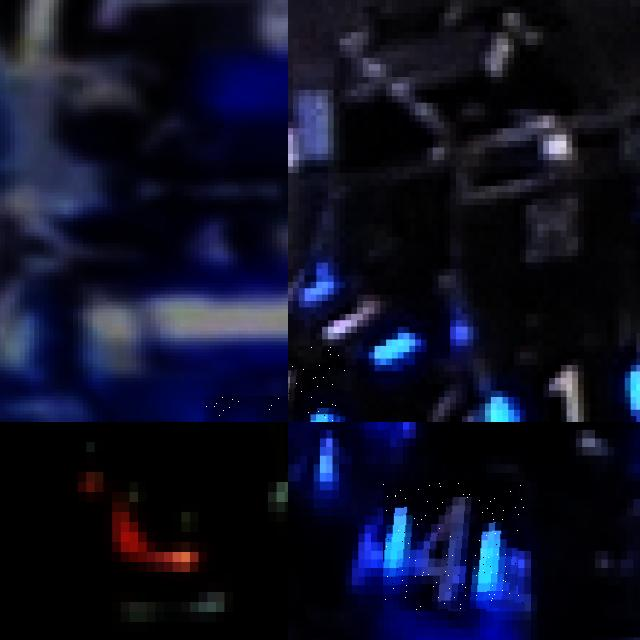B1: (479, 358, 640, 422), (288, 345, 345, 422)
B4: (383, 482, 525, 611)
